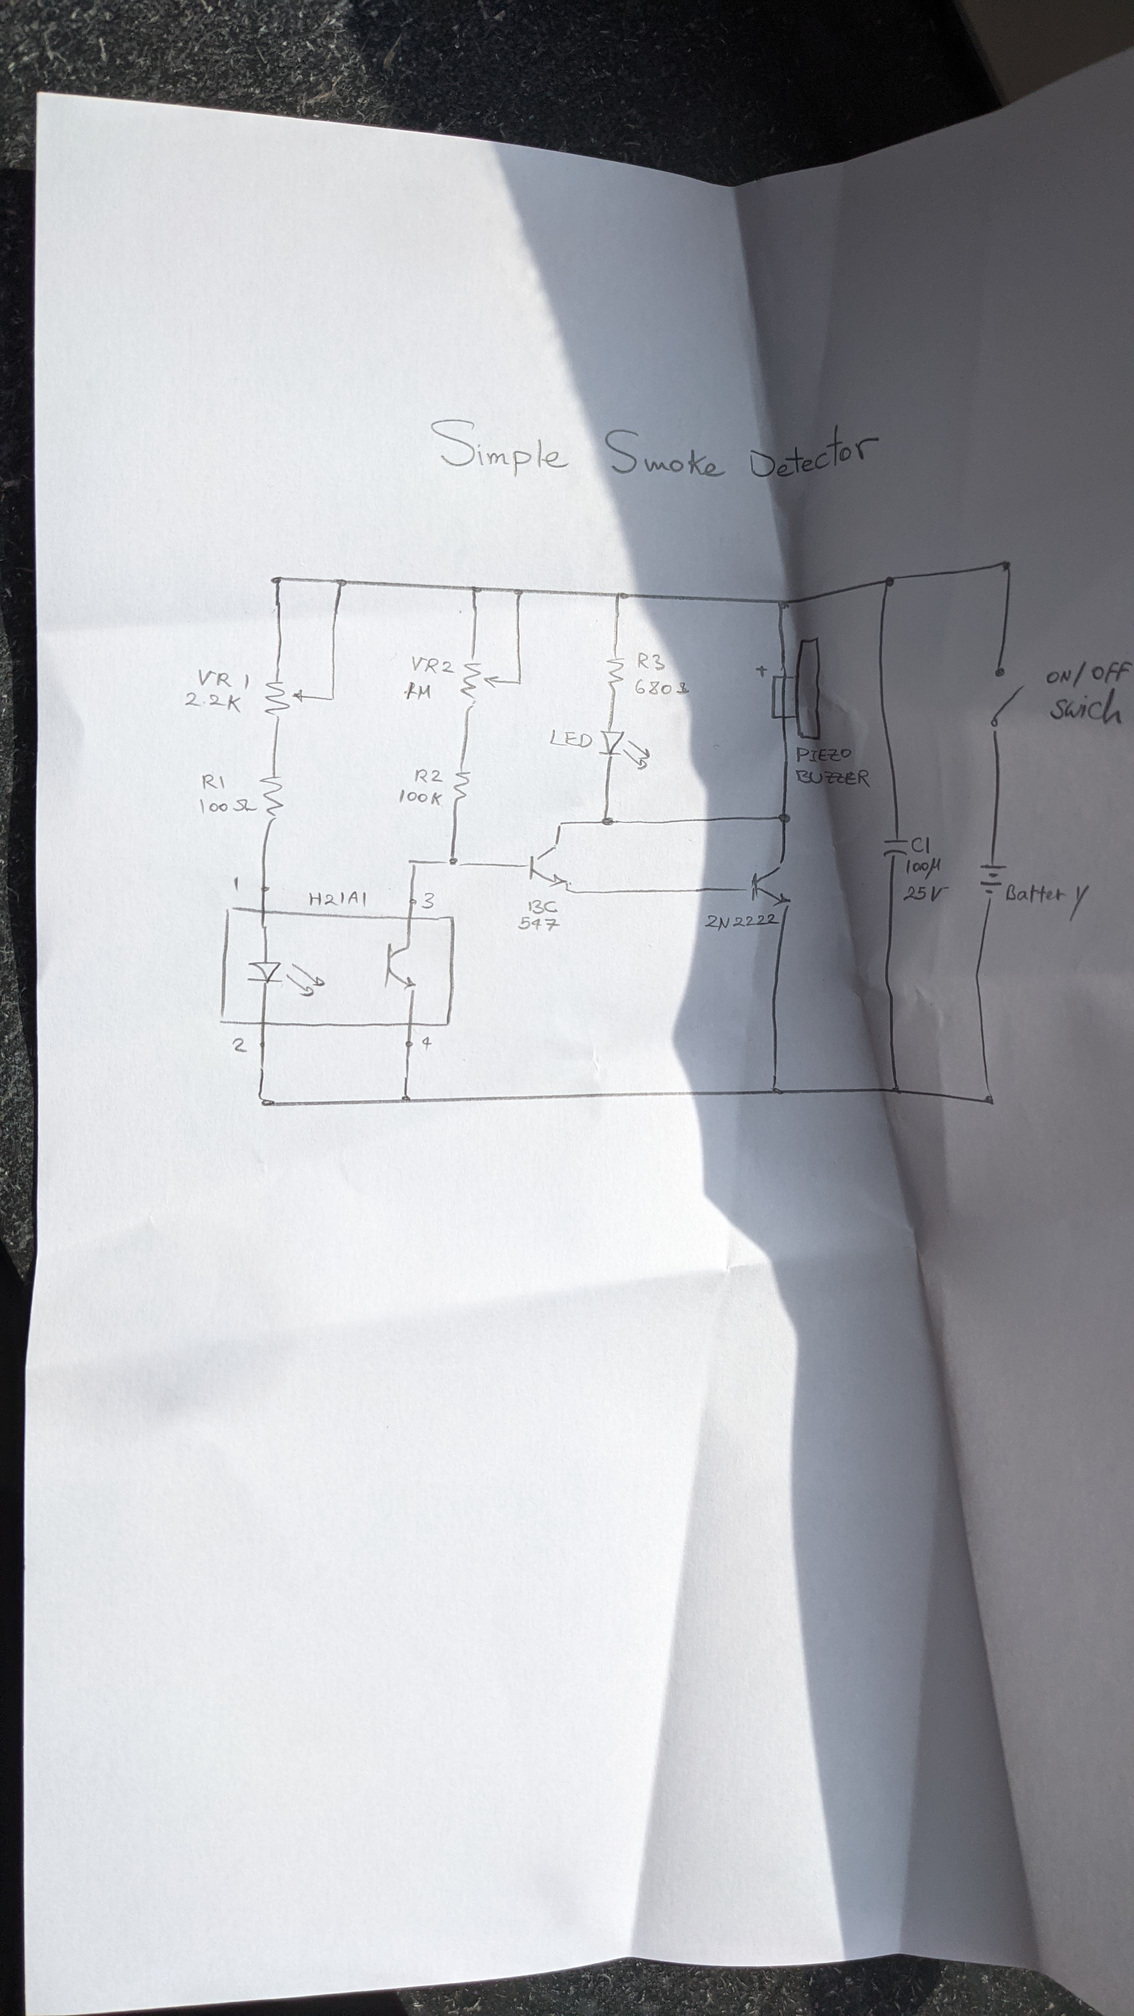capacitor.unpolarized: (881, 834, 911, 858)
diode.light_emitting: (594, 726, 652, 773)
integrated_circuit: (217, 903, 458, 1030)
junction: (978, 1084, 996, 1108), (440, 853, 464, 870), (256, 1088, 276, 1108), (773, 595, 791, 613), (775, 809, 793, 825), (881, 573, 899, 588), (611, 588, 629, 604), (888, 1081, 904, 1097), (768, 1081, 784, 1097), (998, 557, 1014, 572), (404, 856, 421, 870), (400, 1091, 414, 1106), (511, 586, 526, 600), (334, 576, 350, 588), (600, 816, 618, 827), (468, 583, 483, 595), (269, 575, 285, 586), (325, 692, 338, 703), (555, 820, 566, 831), (512, 676, 523, 687), (564, 888, 575, 894)
optocoupler: (244, 942, 420, 1000)
resistor: (258, 771, 287, 822), (604, 654, 629, 692), (450, 764, 472, 807)
resistor.adjustable: (457, 654, 503, 712), (260, 676, 307, 721)
speaker: (753, 634, 827, 744)
switch: (986, 663, 1027, 737)
text: (426, 415, 885, 480), (1004, 882, 1091, 924), (1048, 687, 1124, 727), (1043, 658, 1134, 691), (793, 767, 872, 789), (181, 690, 244, 714), (703, 912, 782, 932), (307, 888, 370, 908), (197, 667, 251, 691), (633, 677, 692, 698), (793, 745, 853, 764), (548, 727, 595, 750), (408, 654, 456, 676), (397, 786, 444, 809), (900, 883, 948, 904), (198, 798, 258, 814), (906, 856, 943, 881), (516, 915, 561, 935), (636, 649, 667, 673), (403, 680, 433, 703), (413, 766, 446, 785), (526, 899, 559, 915), (201, 773, 226, 793), (910, 835, 930, 856), (230, 1036, 249, 1054), (230, 872, 244, 894), (420, 892, 436, 910), (420, 1034, 433, 1051)
transistor: (741, 857, 796, 907), (523, 840, 570, 888)
voltage.dc: (978, 857, 1009, 901)
